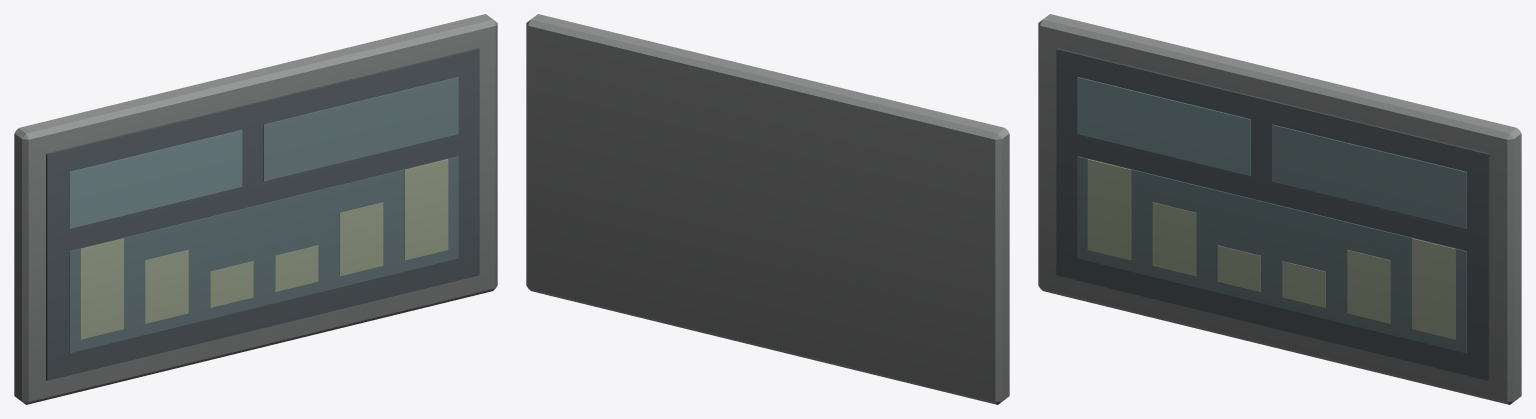
File: int_screen.glb
3 views of the same model, side by side, from view 1: azimuth 30°, elevation 25°; view 2: azimuth 150°, elevation 25°; view 3: azimuth 330°, elevation 25° (orthographic).
Visible parts, largest first — view 1: int_screen; view 2: int_screen; view 3: int_screen.
Part boxes in pixels (x1,y1,x2,y2): int_screen: (14, 14, 497, 404); int_screen: (526, 14, 1009, 404); int_screen: (1038, 14, 1521, 404).
Size of the model in its own units: 4.4 by 2.4 by 0.235.
